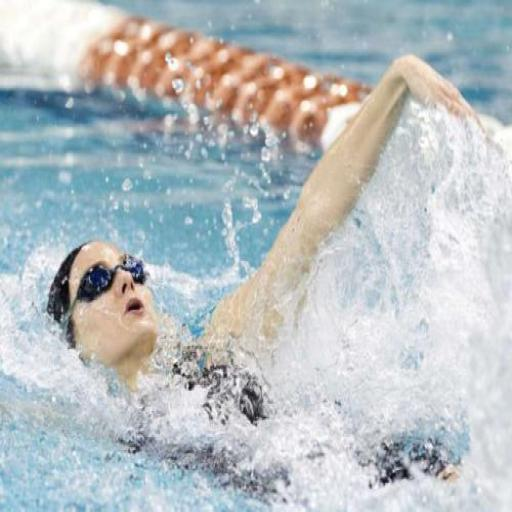swimming: (39, 49, 503, 505)
